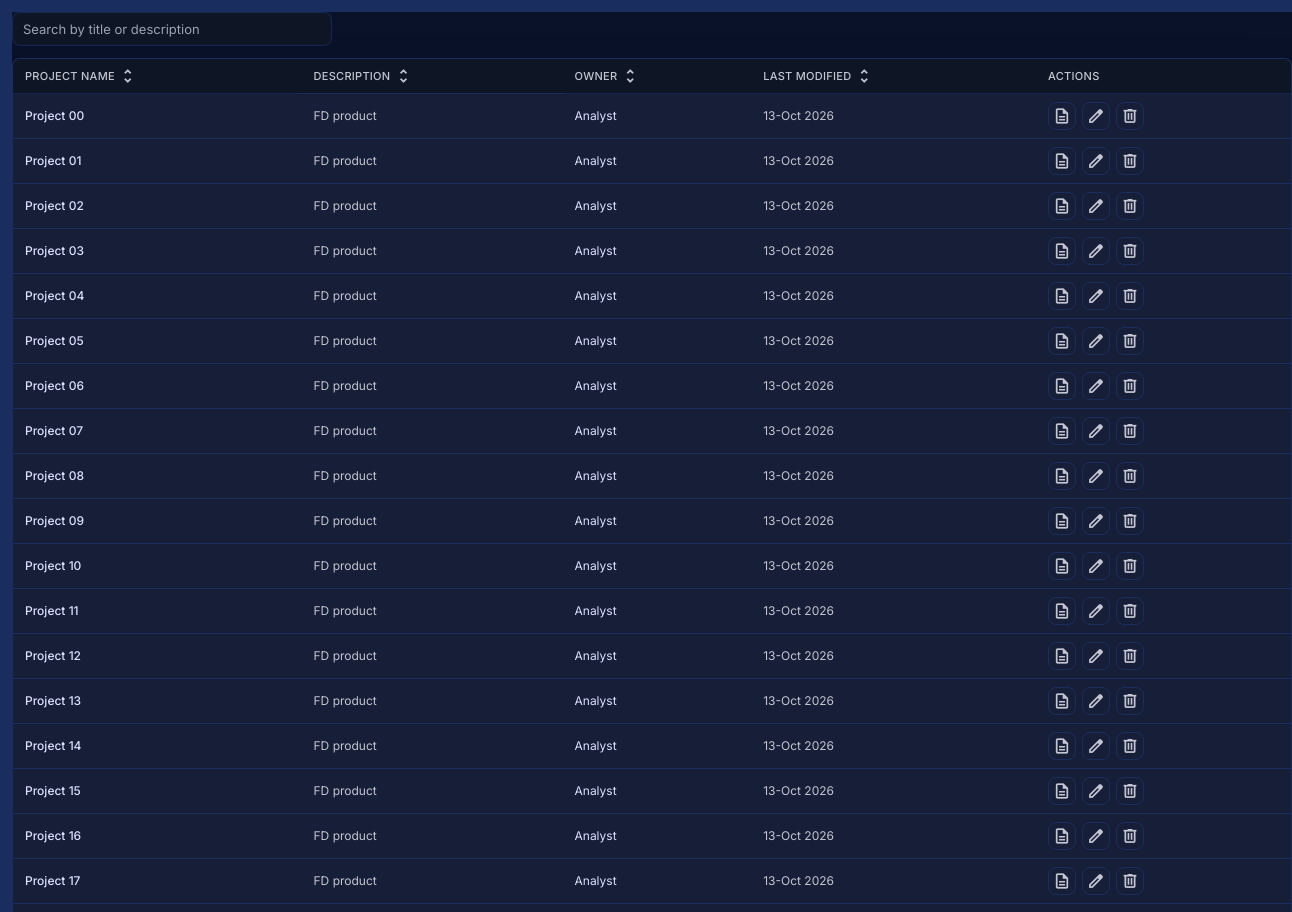
Test: ProjectTable › paginates at 30 projects and sorts by name when the header is clicked
Expected: the text "Project 30" is not shown
Click the button "Project Name": [81, 76] box [25,67,137,85]
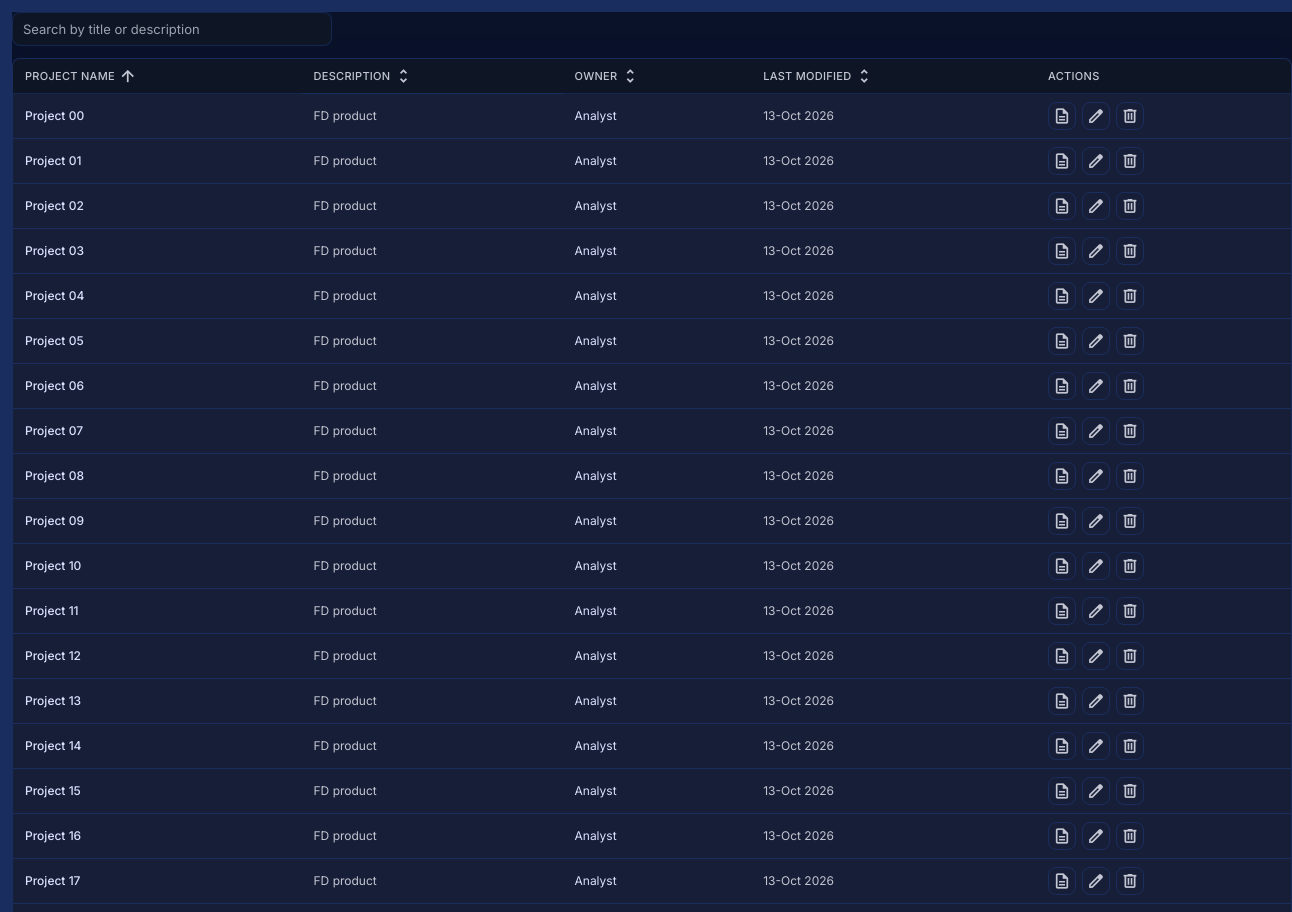
Click the button "Project Name": [81, 76] box [25,67,137,85]
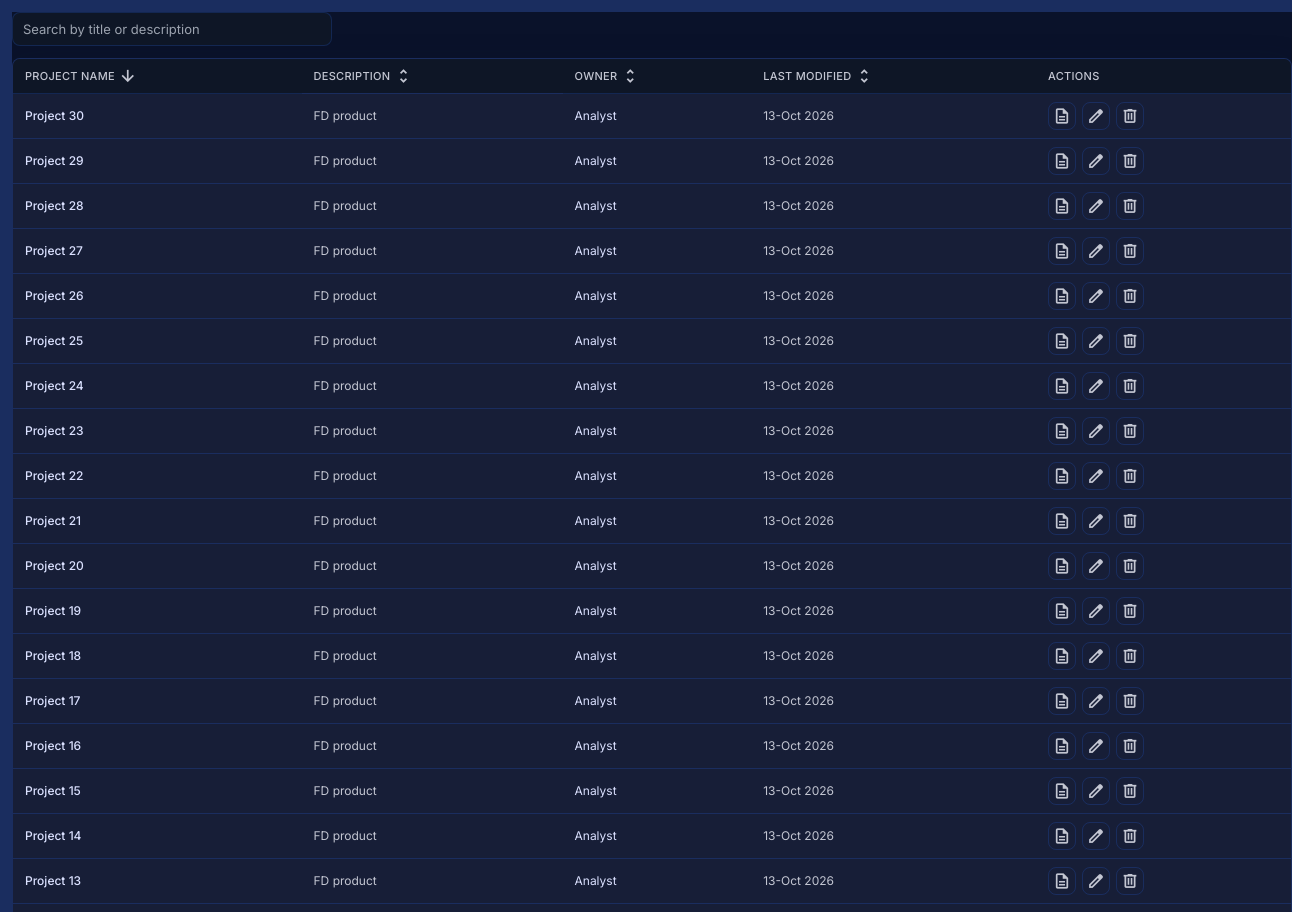
Expected: the row "Project 30 FD product Analyst 13-Oct 2026" is shown, [13,94,1291,138]
